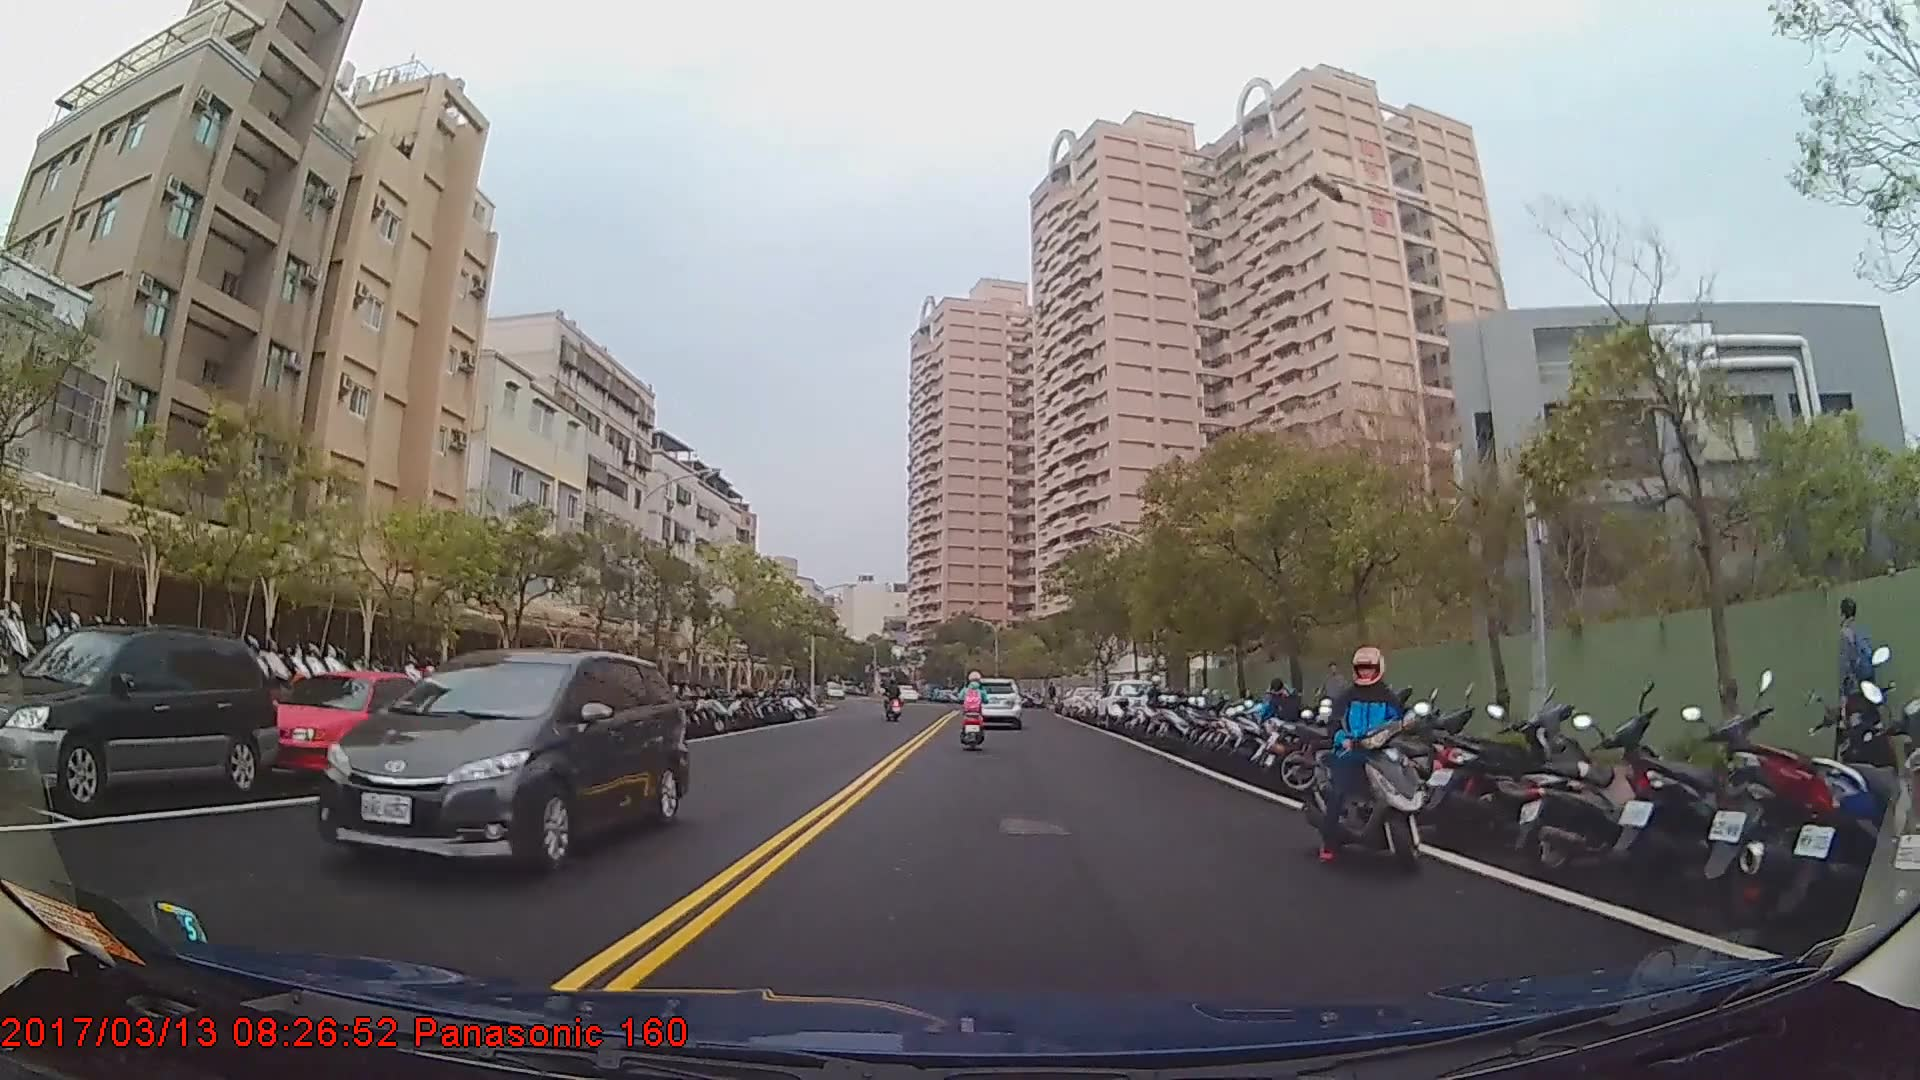pedestrian: (1823, 599, 1881, 801), (1260, 679, 1306, 770)
rider: (1308, 641, 1427, 869), (956, 673, 989, 750), (883, 680, 903, 723)
vehicle: (314, 645, 694, 877), (0, 623, 273, 808), (260, 671, 448, 786), (1093, 677, 1164, 731), (966, 676, 1021, 727)
